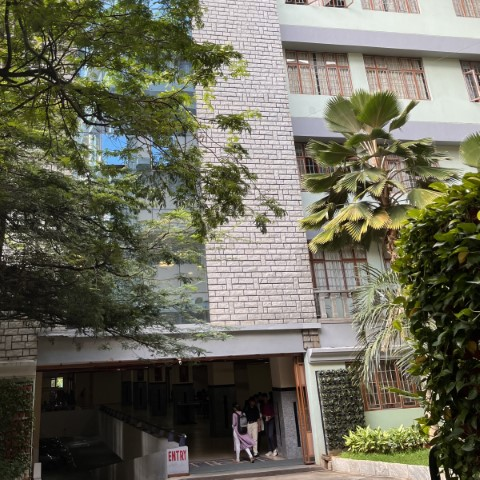Central Block: (38, 1, 438, 476)
